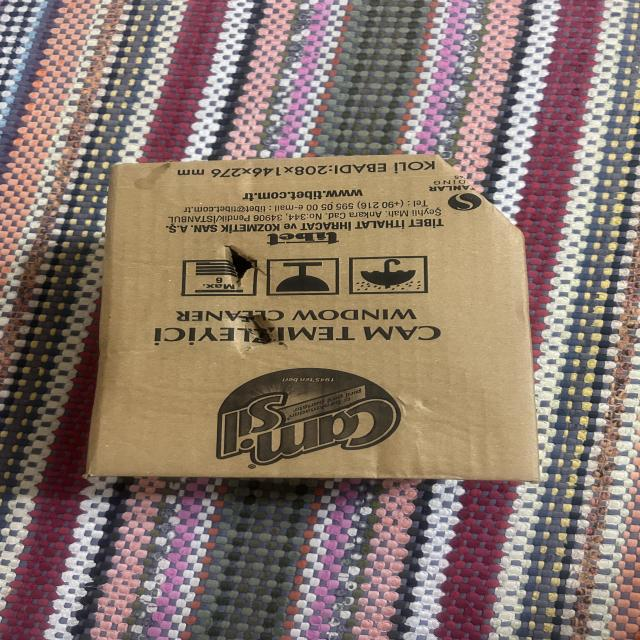damaged: (77, 145, 547, 483), (402, 123, 549, 238), (220, 306, 292, 365), (218, 238, 264, 293)
